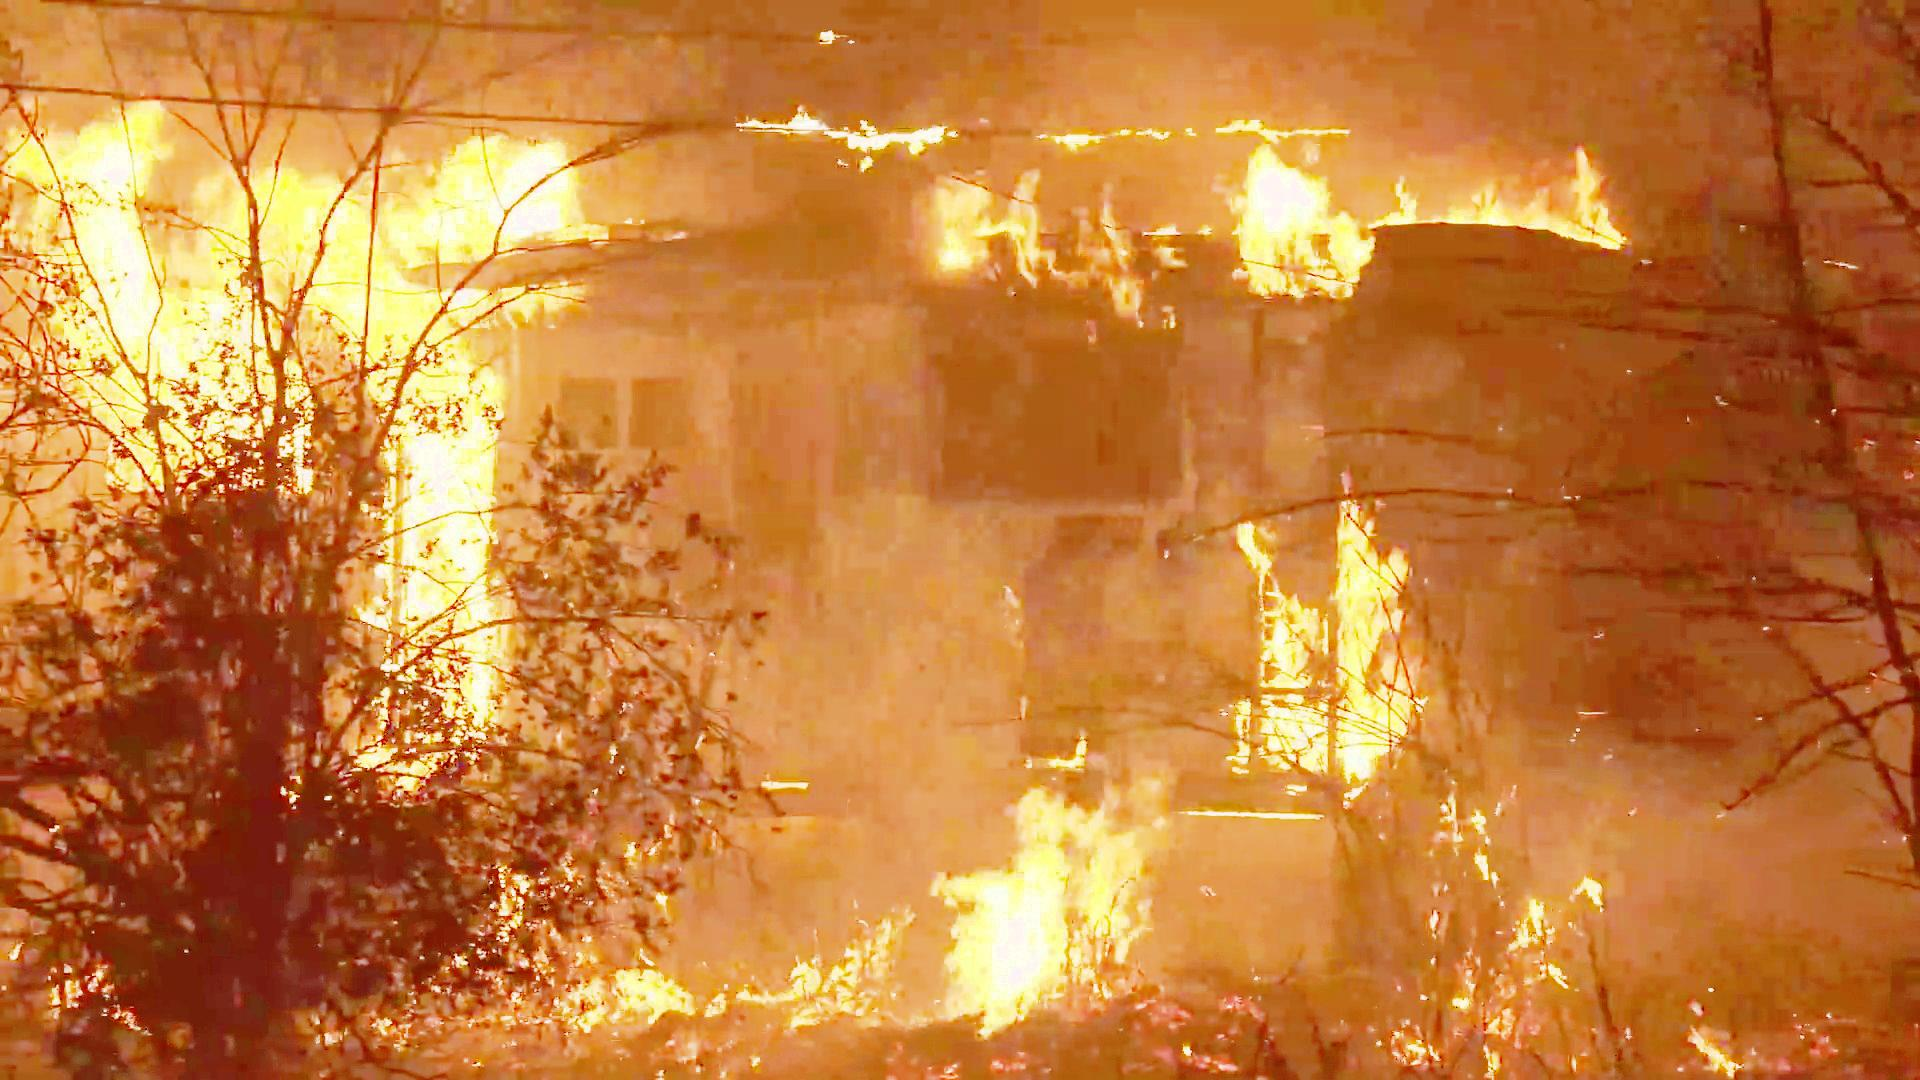fire: (1225, 465, 1443, 781), (906, 800, 1203, 1013), (1216, 123, 1404, 315), (423, 116, 605, 269)
